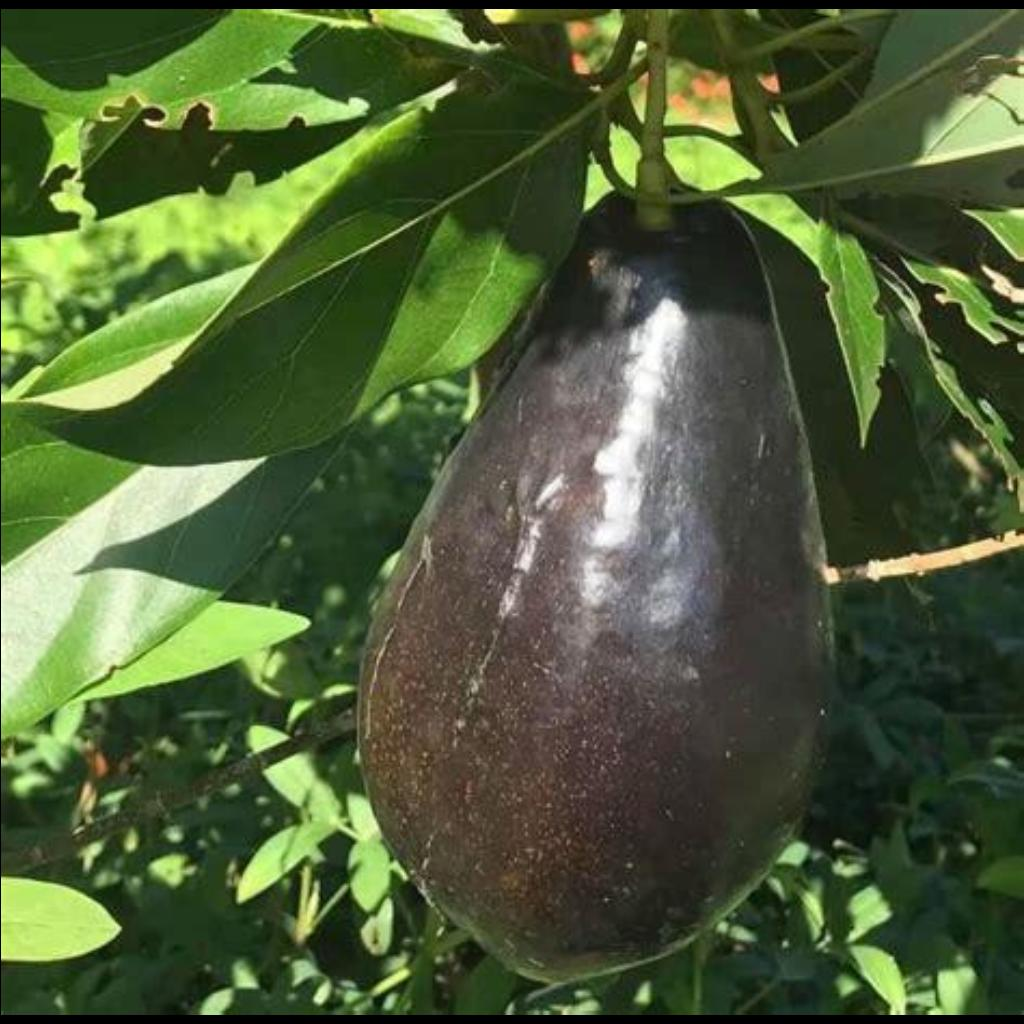Healthy: (358, 174, 840, 976), (514, 194, 572, 260)
